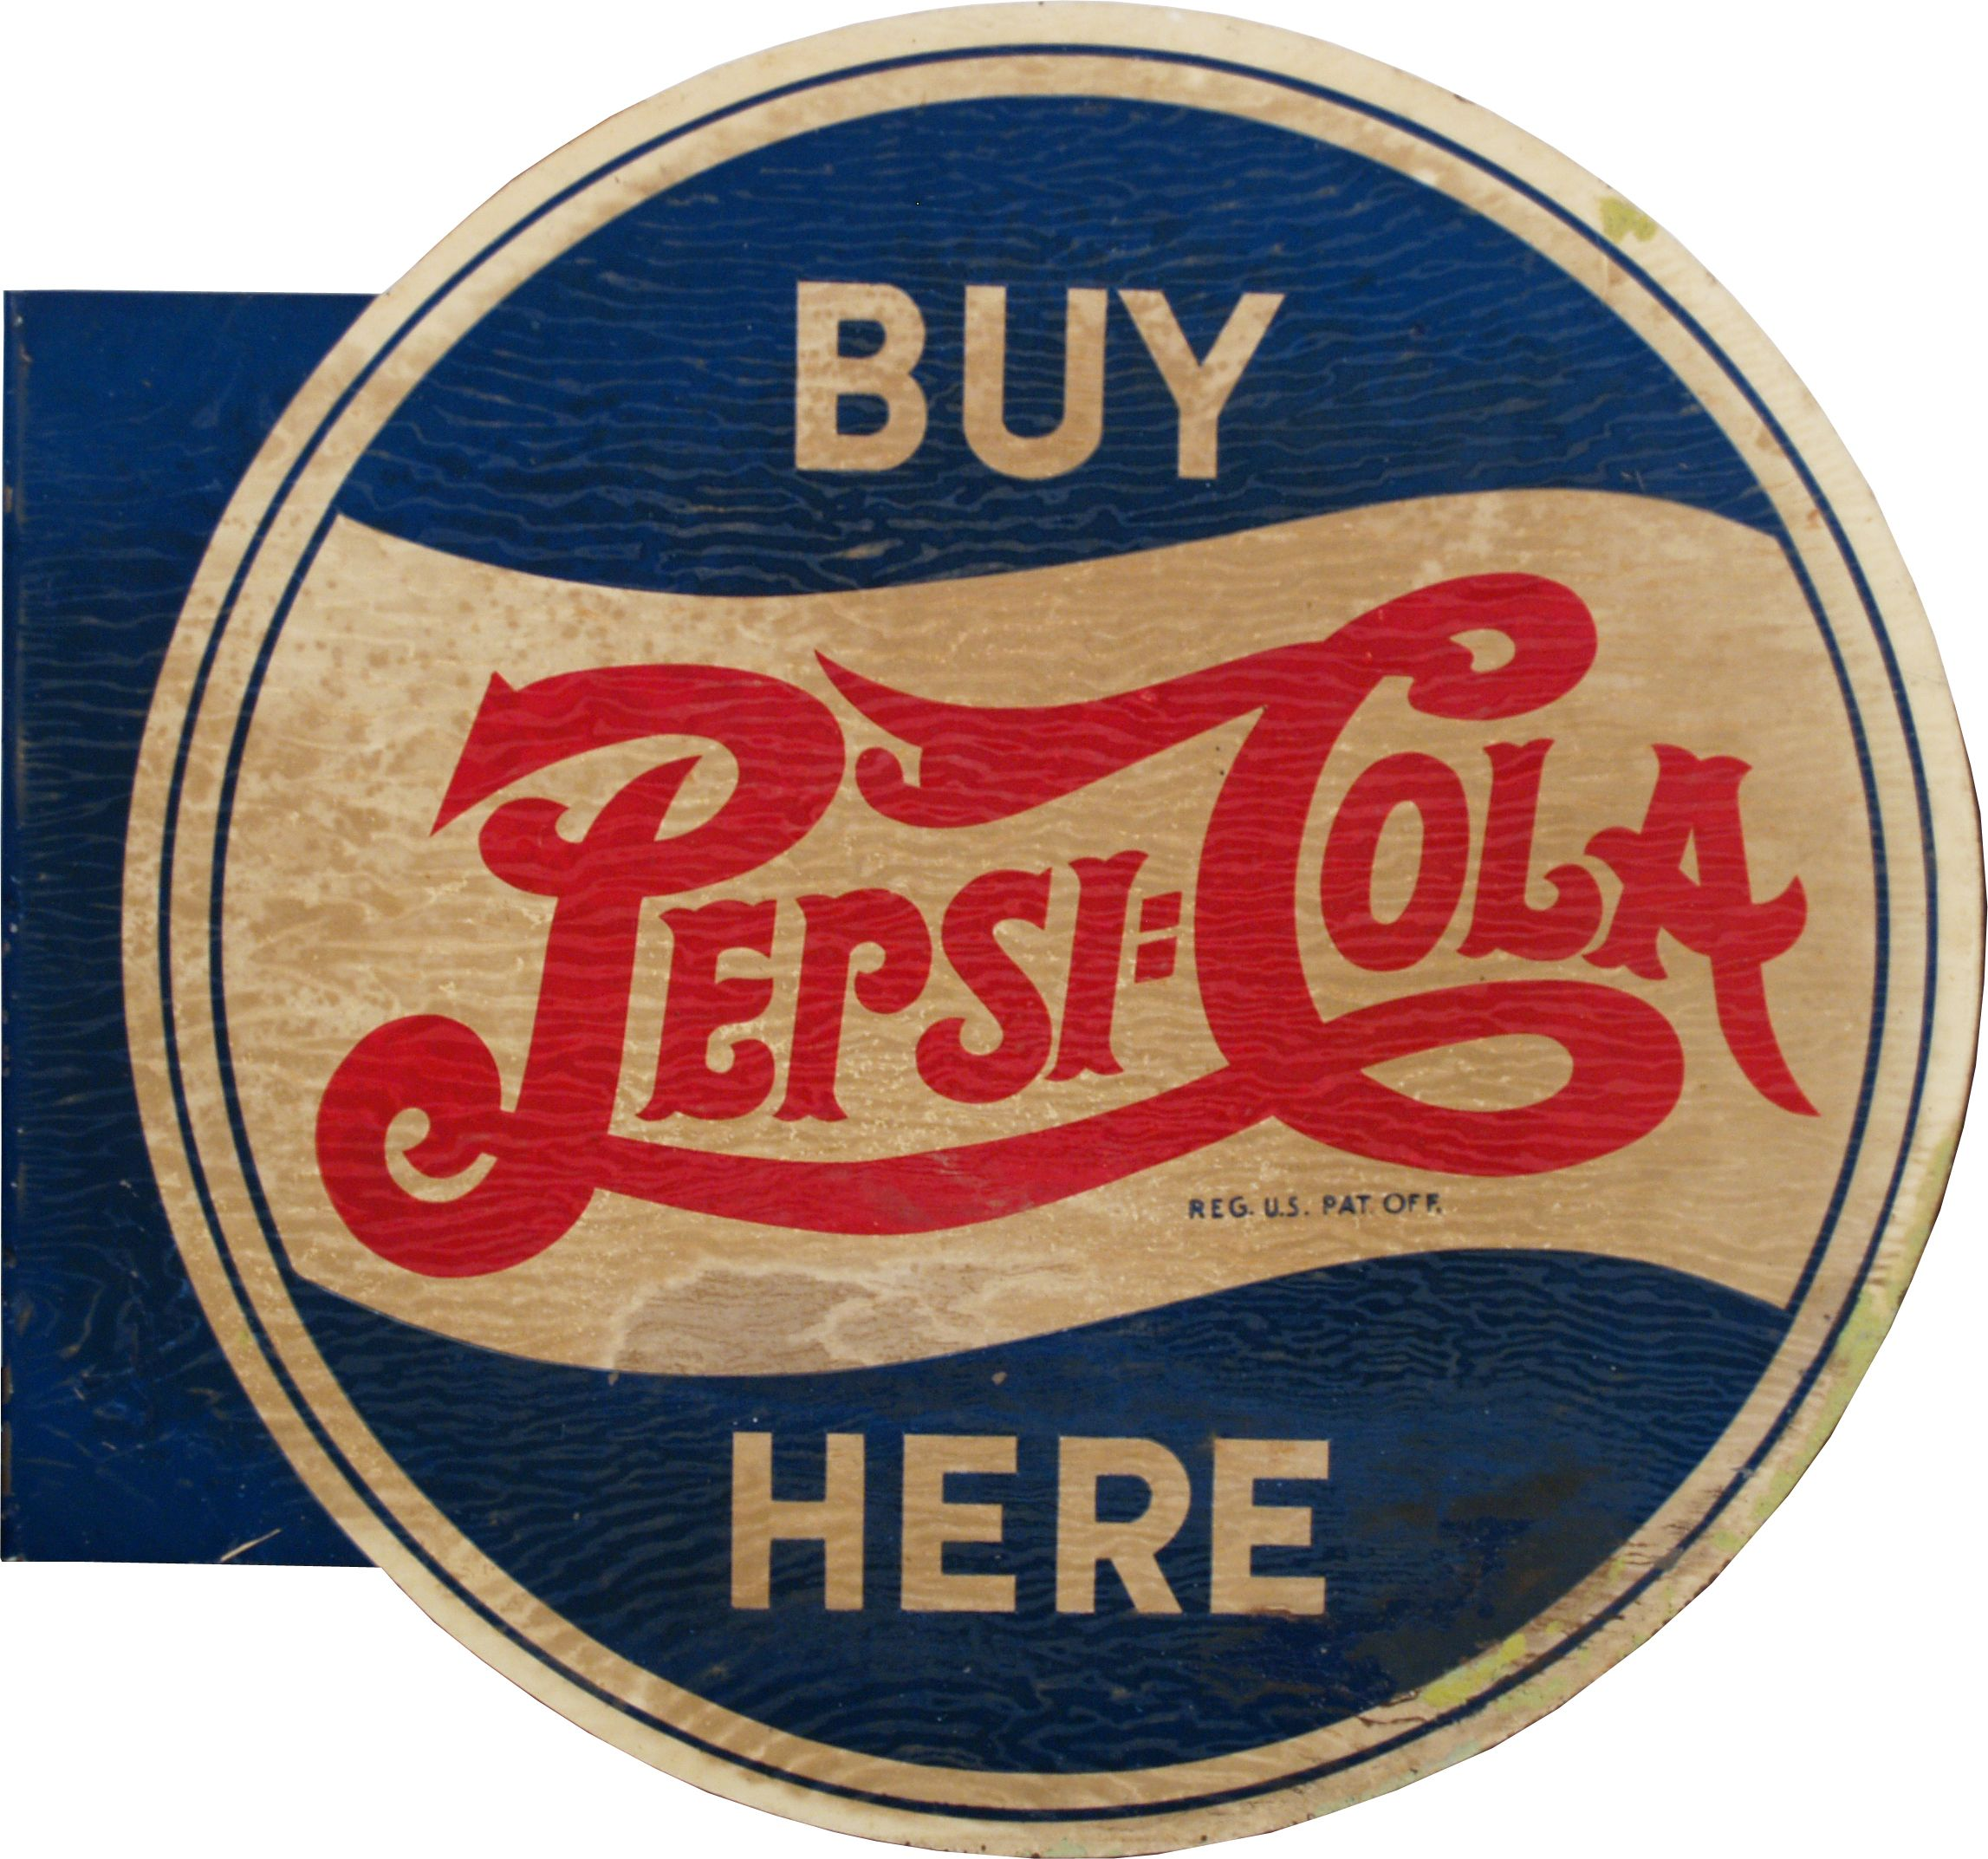pepsi: (171, 7, 1941, 1843)
